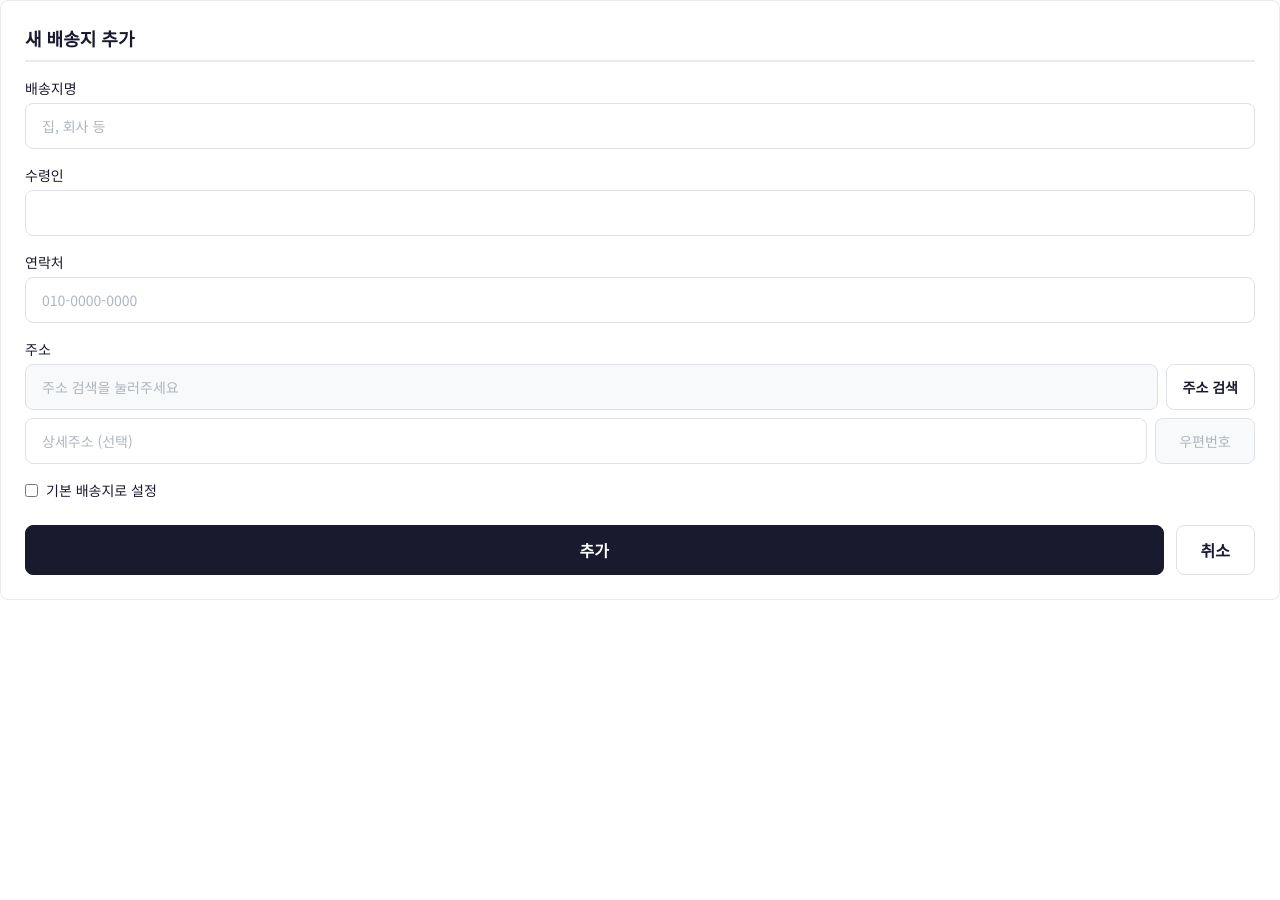
Test case: AddressForm › 추가 모드 › 필수 필드가 비어있으면 에러를 표시한다
This screenshot has width=1280, height=900.
Click the button "추가": (594,550) [25, 525, 1164, 575]
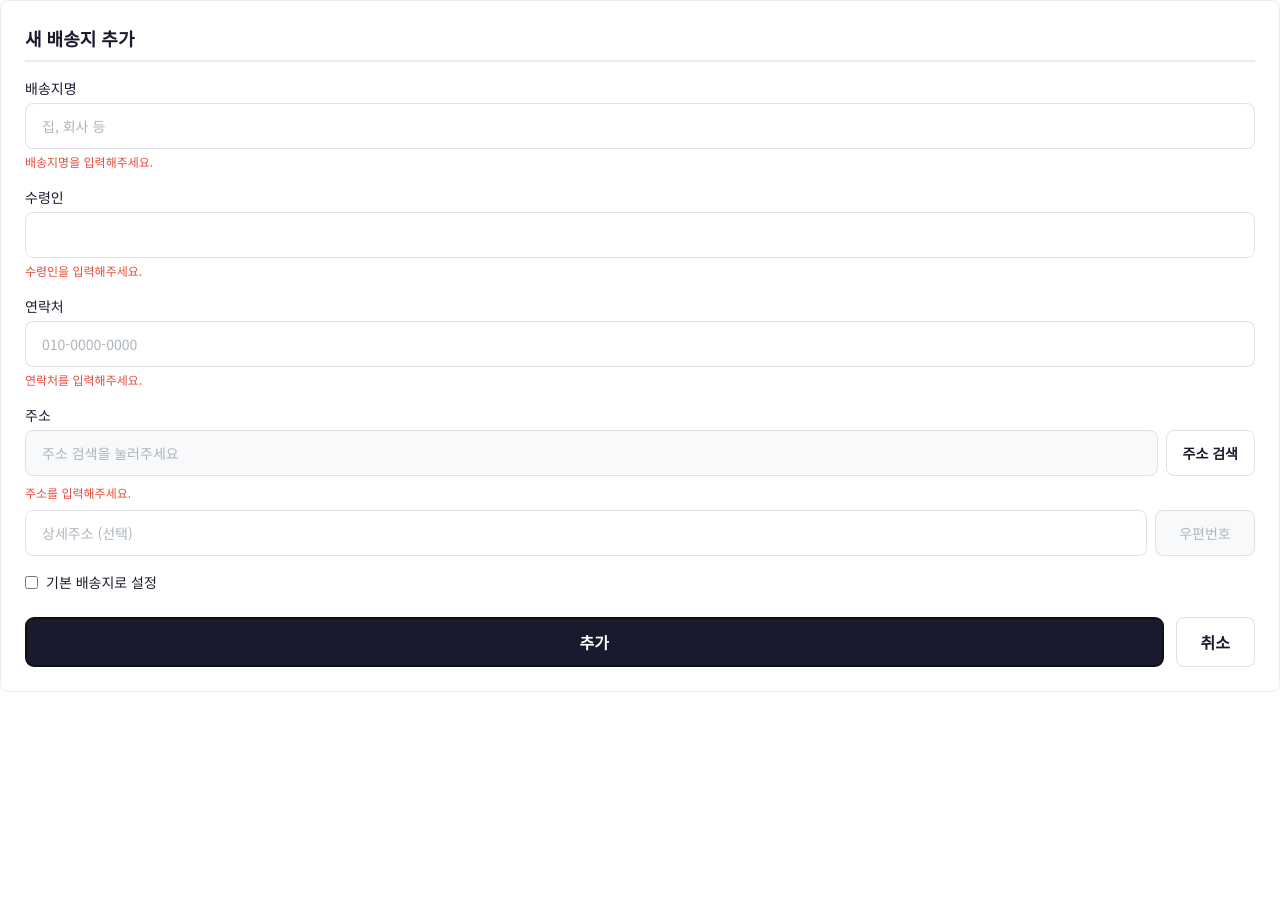
Result: the text "배송지명을 입력해주세요." is shown at [25, 153, 153, 170]
Result: the text "수령인을 입력해주세요." is shown at [25, 262, 142, 279]
Result: the text "연락처를 입력해주세요." is shown at [25, 371, 142, 388]
